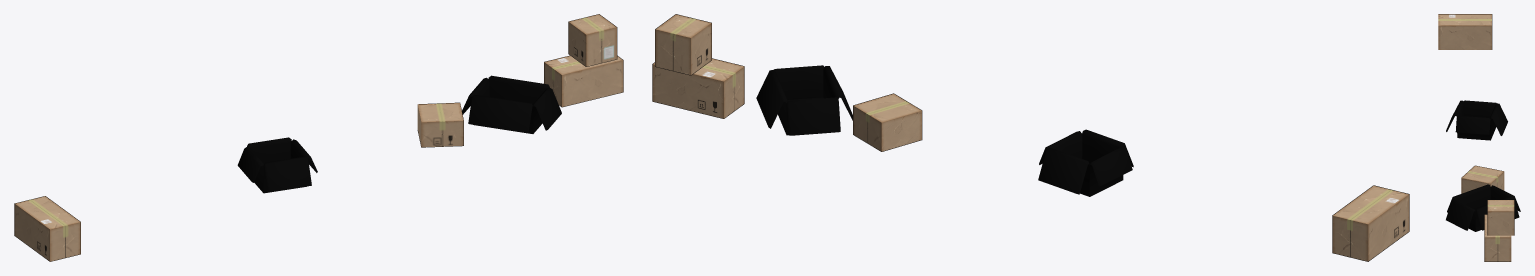
The model's file is CardboardBox.fbx.
3 renders of one model, left to right at view 1: azimuth 30°, elevation 25°; view 2: azimuth 150°, elevation 25°; view 3: azimuth 270°, elevation 25°, orthographic. The views are drawn at different scales.
Parts seen in each view (by area): view 1: Cardboard Box; view 2: Cardboard Box; view 3: Cardboard Box.
Part boxes in pixels (<box>): Cardboard Box: <box>14,14,623,261</box>; Cardboard Box: <box>652,14,1409,261</box>; Cardboard Box: <box>1438,14,1520,261</box>.
Size of the model in its own units: 859 by 88.36 by 134.
